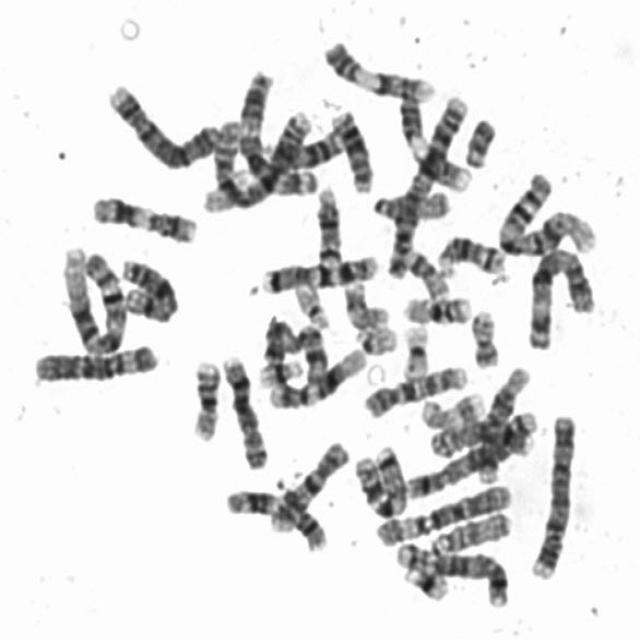A1: (492, 166, 600, 258), (53, 237, 130, 356)
A2: (381, 85, 473, 282), (200, 104, 316, 213)
A3: (233, 62, 346, 172), (520, 238, 598, 352)
B4: (99, 74, 225, 172), (523, 405, 579, 583)
B5: (401, 402, 539, 502), (389, 535, 510, 609)
C10: (263, 432, 352, 535), (356, 356, 471, 420)
C11: (217, 479, 331, 553), (84, 186, 200, 246)
C12: (471, 357, 533, 485), (261, 338, 369, 411)
C6: (369, 475, 516, 548), (26, 336, 162, 386)
C7: (256, 245, 381, 295), (346, 438, 411, 520)
C8: (214, 346, 270, 471), (423, 408, 537, 462)
C9: (391, 86, 473, 194), (316, 30, 438, 101)
D13: (323, 100, 376, 194), (259, 128, 344, 172)
D14: (429, 225, 508, 277), (308, 176, 345, 268)
D15: (424, 503, 515, 557), (364, 180, 453, 224)
E16: (183, 351, 223, 443), (395, 285, 474, 327)
E17: (413, 383, 487, 430), (336, 273, 392, 330)
E18: (295, 322, 328, 384), (264, 314, 302, 364)
F19: (197, 161, 250, 213), (394, 314, 434, 380)
F20: (399, 240, 452, 300), (464, 300, 502, 370)
G21: (397, 557, 452, 603), (258, 356, 302, 390)
G22: (287, 276, 333, 330), (348, 317, 400, 356)
X: (114, 250, 181, 324)
Y: (458, 108, 499, 169)
